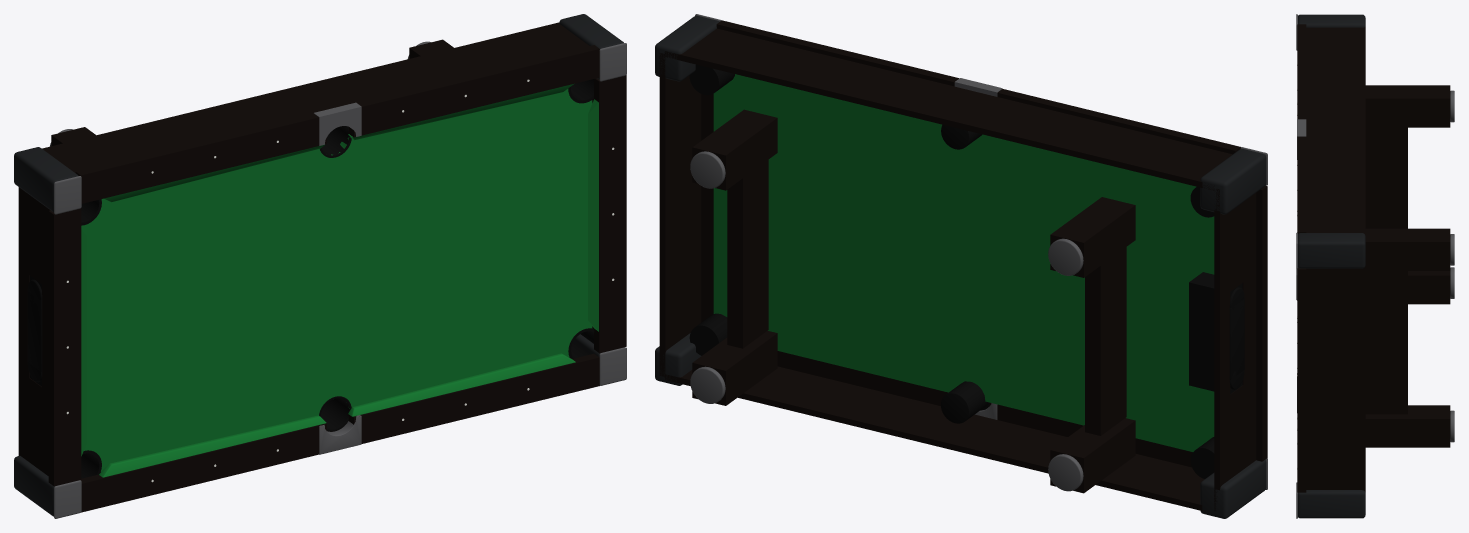
The model's file is mesa_billar.obj.
3 renders of one model, left to right at view 1: azimuth 30°, elevation 25°; view 2: azimuth 150°, elevation 25°; view 3: azimuth 270°, elevation 25°, orthographic. The views are drawn at different scales.
Visible parts, largest first — view 1: Table_Slate_Mat_TableCloth, Apron_Side_YP_Mat_DarkWalnut, Rail_End_XN_Mat_DarkWalnut, Rail_YP_R_Mat_DarkWalnut, Rail_YP_L_Mat_DarkWalnut, Rail_End_XP_Mat_DarkWalnut, Rail_YN_R_Mat_DarkWalnut, Rail_YN_L_Mat_DarkWalnut, Cushion_YN_L_Mat_TableCloth, Cushion_YN_R_Mat_TableCloth, Apron_Front_L_Mat_DarkWalnut, Apron_Front_R_Mat_DarkWalnut (+17 smaller); view 2: Table_Slate_Mat_TableCloth, Apron_Side_YP_Mat_DarkWalnut, Apron_Side_YN_Mat_DarkWalnut, Apron_End_XP_Mat_DarkWalnut, Pedestal_Front_Bridge_Mat_DarkWalnut, Pedestal_Back_Bridge_Mat_DarkWalnut, Pedestal_Back_Col_R_Mat_DarkWalnut, Pedestal_Front_Col_R_Mat_DarkWalnut, Apron_Front_L_Mat_DarkWalnut, Apron_Front_R_Mat_DarkWalnut, Pedestal_Back_Col_L_Mat_DarkWalnut, Pedestal_Front_Col_L_Mat_DarkWalnut (+22 smaller); view 3: Apron_End_XP_Mat_DarkWalnut, Apron_Side_YP_Mat_DarkWalnut, Pedestal_Back_Bridge_Mat_DarkWalnut, Pedestal_Front_Bridge_Mat_DarkWalnut, Pedestal_Front_Col_R_Mat_DarkWalnut, Pedestal_Back_Col_R_Mat_DarkWalnut, Pedestal_Back_Col_L_Mat_DarkWalnut, Corner_XP_YP_Body_Mat_SatinCorner.002, Rail_End_XP_Mat_DarkWalnut, Corner_XP_YN_Body_Mat_SatinCorner.001, Pedestal_Front_Col_L_Mat_DarkWalnut, Rail_YP_R_Mat_DarkWalnut (+3 smaller).
Part boxes in pixels (left/top/right/bottom): Table_Slate_Mat_TableCloth: left=81, top=89, right=592, bottom=471; Apron_Side_YP_Mat_DarkWalnut: left=42, top=22, right=589, bottom=172; Rail_End_XN_Mat_DarkWalnut: left=48, top=208, right=81, bottom=486; Rail_YP_R_Mat_DarkWalnut: left=348, top=45, right=599, bottom=137; Rail_YP_L_Mat_DarkWalnut: left=75, top=113, right=326, bottom=203; Rail_End_XP_Mat_DarkWalnut: left=594, top=75, right=626, bottom=353; Rail_YN_R_Mat_DarkWalnut: left=348, top=353, right=599, bottom=443; Rail_YN_L_Mat_DarkWalnut: left=80, top=423, right=326, bottom=512; Cushion_YN_L_Mat_TableCloth: left=99, top=415, right=326, bottom=477; Cushion_YN_R_Mat_TableCloth: left=348, top=353, right=575, bottom=416; Apron_Front_L_Mat_DarkWalnut: left=18, top=370, right=48, bottom=475; Apron_Front_R_Mat_DarkWalnut: left=18, top=187, right=50, bottom=288; Table_Slate_Mat_TableCloth: left=713, top=74, right=1214, bottom=451; Apron_Side_YP_Mat_DarkWalnut: left=664, top=28, right=1232, bottom=190; Apron_Side_YN_Mat_DarkWalnut: left=664, top=366, right=1205, bottom=511; Apron_End_XP_Mat_DarkWalnut: left=659, top=53, right=701, bottom=376; Pedestal_Front_Bridge_Mat_DarkWalnut: left=1085, top=247, right=1126, bottom=435; Pedestal_Back_Bridge_Mat_DarkWalnut: left=727, top=160, right=768, bottom=348; Pedestal_Back_Col_R_Mat_DarkWalnut: left=692, top=109, right=777, bottom=190; Pedestal_Front_Col_R_Mat_DarkWalnut: left=1050, top=197, right=1135, bottom=277; Apron_Front_L_Mat_DarkWalnut: left=1214, top=376, right=1256, bottom=511; Apron_Front_R_Mat_DarkWalnut: left=1214, top=189, right=1256, bottom=299; Pedestal_Back_Col_L_Mat_DarkWalnut: left=692, top=330, right=777, bottom=405; Pedestal_Front_Col_L_Mat_DarkWalnut: left=1050, top=418, right=1135, bottom=493; Apron_End_XP_Mat_DarkWalnut: left=1306, top=266, right=1365, bottom=492; Apron_Side_YP_Mat_DarkWalnut: left=1306, top=26, right=1365, bottom=235; Pedestal_Back_Bridge_Mat_DarkWalnut: left=1365, top=271, right=1407, bottom=414; Pedestal_Front_Bridge_Mat_DarkWalnut: left=1365, top=127, right=1407, bottom=228; Pedestal_Front_Col_R_Mat_DarkWalnut: left=1365, top=85, right=1450, bottom=127; Pedestal_Back_Col_R_Mat_DarkWalnut: left=1365, top=228, right=1450, bottom=270; Pedestal_Back_Col_L_Mat_DarkWalnut: left=1365, top=405, right=1450, bottom=447; Corner_XP_YP_Body_Mat_SatinCorner.002: left=1298, top=233, right=1365, bottom=268; Rail_End_XP_Mat_DarkWalnut: left=1297, top=268, right=1306, bottom=492; Corner_XP_YN_Body_Mat_SatinCorner.001: left=1298, top=490, right=1365, bottom=518; Pedestal_Front_Col_L_Mat_DarkWalnut: left=1408, top=271, right=1450, bottom=304; Rail_YP_R_Mat_DarkWalnut: left=1297, top=136, right=1306, bottom=233.
Size of the model in its own units: 9.86 by 5.56 by 2.88.
